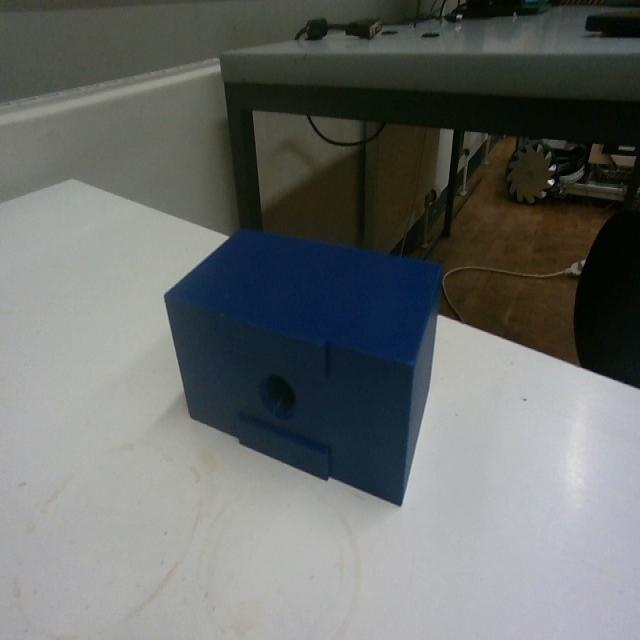Blue Cuboid: (161, 221, 445, 507)
